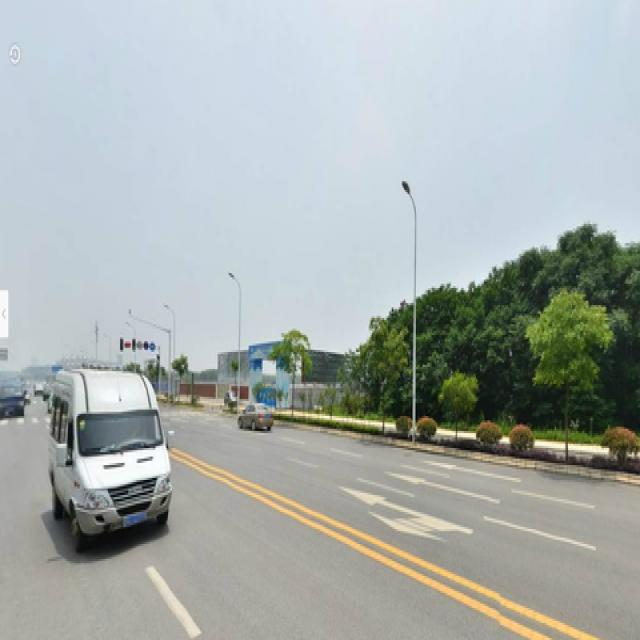sali: (530, 297, 594, 450)
